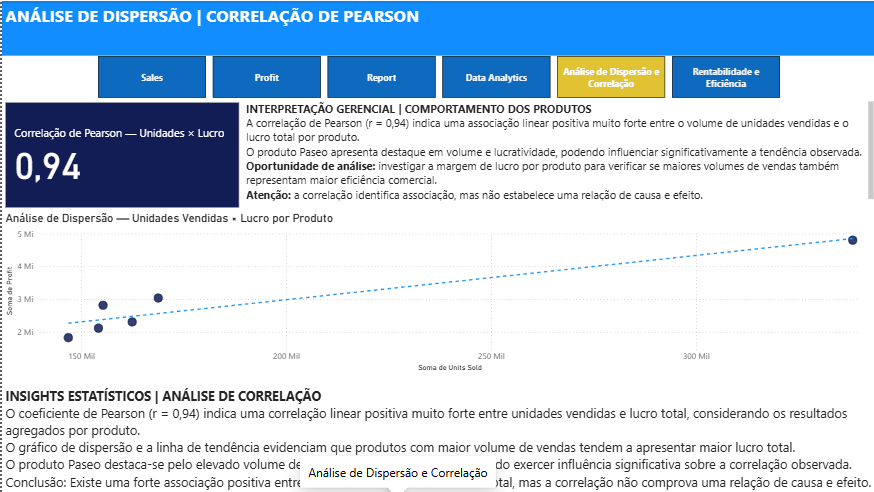

The dashboard page shown, as its layout file describes it:
{"tool":"powerbi","page":{"name":"Análise de Dispersão e Correlação","canvas":[1280,720],"ordinal":4},"visuals":[{"type":"scatterChart","title":"Análise de Dispersão — Unidades Vendidas × Lucro por Produto","fields":{"Category":["financials.Product"],"X":["Sum(financials.Units Sold)"],"Y":["Sum(financials.Profit)"]},"box":[0,307.3,1280.5,240],"z":0},{"type":"cardVisual","fields":{"Data":["financials.Correlação Vendas Lucro"]},"box":[0,142.8,352.8,164.6],"z":1000},{"type":"textbox","box":[0,0,1280.5,80.5],"z":2000},{"type":"textbox","box":[0,559.9,1280,160.2],"z":3000},{"type":"textbox","box":[352.7,142,927.8,155.1],"z":4000},{"type":"pageNavigator","box":[140.5,80.5,999.5,61.5],"z":5000}]}

Visuals, with their boxes on the page's 1280x720 design canvas (x1, y1, x2, y2). These are canvas units, not pixel positions in the 874x492 screenshot, which may show the page scaled, cropped or inside an application window:
"Análise de Dispersão — Unidades Vendidas × Lucro por Produto" scatterChart: bbox=[0, 307, 1280, 547]
cardVisual - financials.Correlação Vendas Lucro: bbox=[0, 143, 353, 307]
textbox: bbox=[0, 0, 1280, 80]
textbox: bbox=[0, 560, 1280, 720]
textbox: bbox=[353, 142, 1280, 297]
pageNavigator: bbox=[140, 80, 1140, 142]
